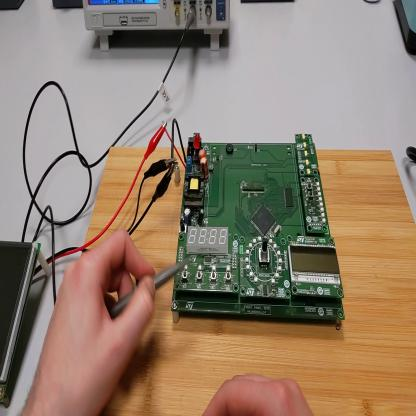hand: (36, 232, 157, 416), (204, 372, 313, 416)
low voltage board: (166, 120, 345, 322)
oscilloscope: (83, 1, 232, 57)
oscilloscope probe tip: (110, 261, 194, 322)
socket: (2, 2, 25, 18), (53, 3, 83, 13)
welder station: (395, 2, 416, 57)
working area: (82, 146, 416, 415)
